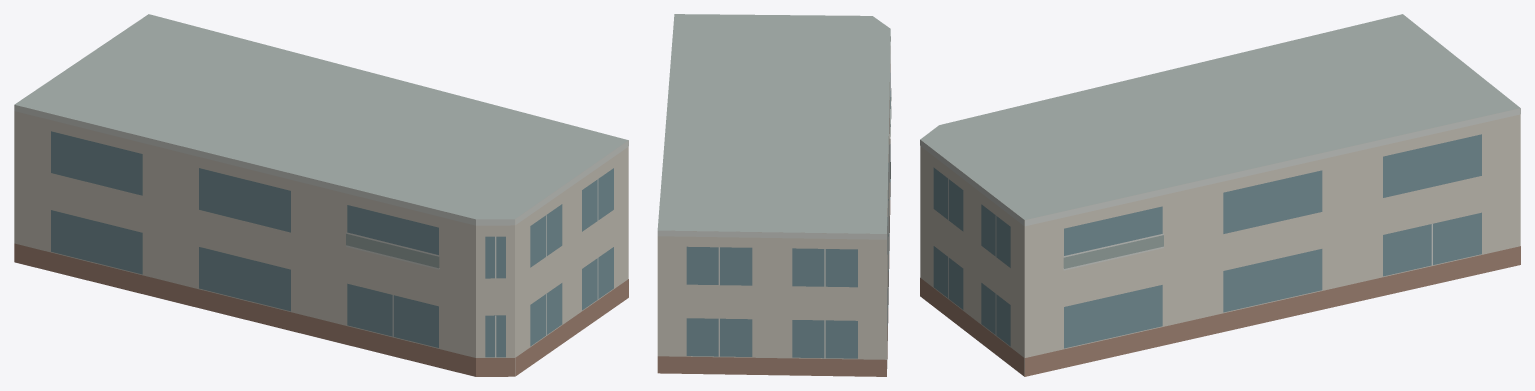
The model's file is survey-upis-32637371.glb.
3 renders of one model, left to right at view 1: azimuth 30°, elevation 25°; view 2: azimuth 150°, elevation 25°; view 3: azimuth 270°, elevation 25°, orthographic. The views are drawn at different scales.
Visible parts, largest first — view 1: survey-upis-32637371.tmp; view 2: survey-upis-32637371.tmp; view 3: survey-upis-32637371.tmp.
Part boxes in pixels (bbox=[...]): survey-upis-32637371.tmp: bbox=[14, 14, 628, 376]; survey-upis-32637371.tmp: bbox=[657, 14, 891, 376]; survey-upis-32637371.tmp: bbox=[920, 14, 1520, 376].
Size of the model in its own units: 17.21 by 6.1 by 21.19.
